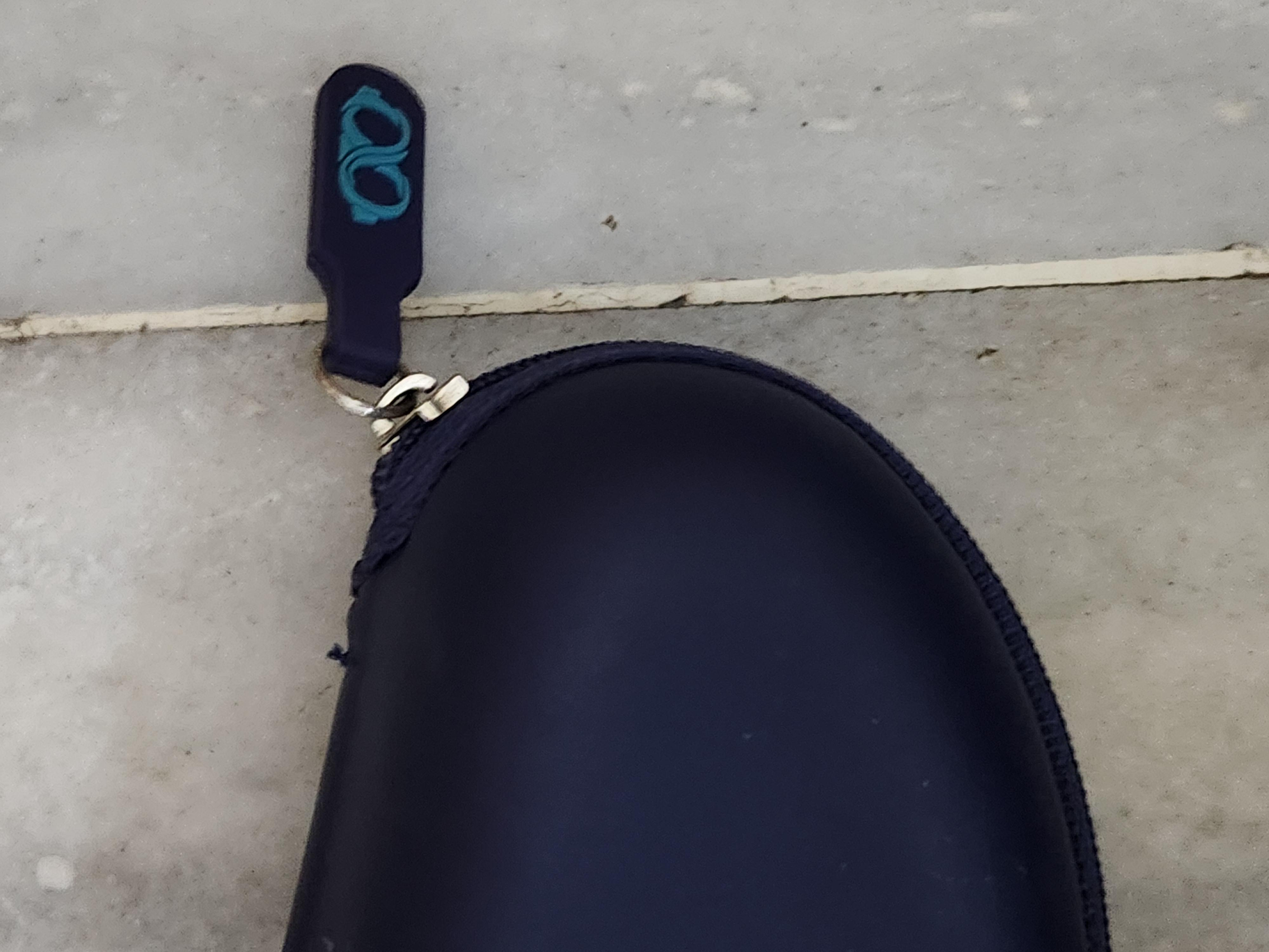case: (72, 114, 1269, 741)
